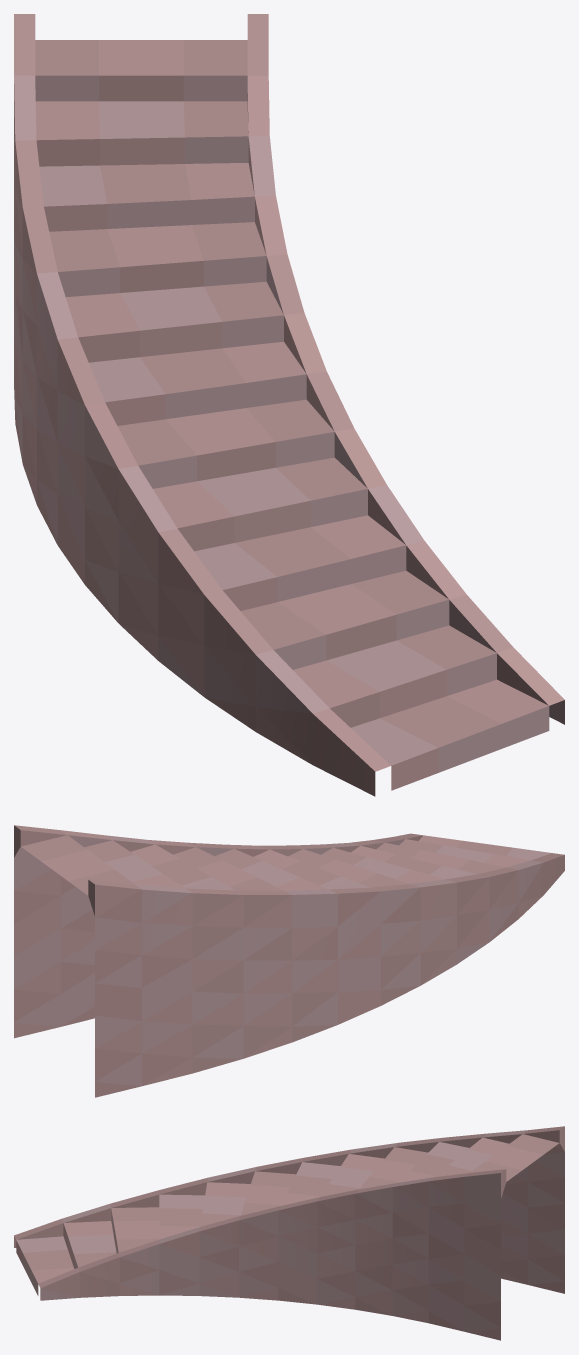
The model's file is Map_CentralStairs01.fbx.
3 renders of one model, top to bottom at view 1: azimuth 30°, elevation 25°; view 2: azimuth 150°, elevation 25°; view 3: azimuth 270°, elevation 25°, orthographic. The views are drawn at different scales.
Visible parts, largest first — view 1: MSH_Path_Narrow_Medium335; view 2: MSH_Path_Narrow_Medium335; view 3: MSH_Path_Narrow_Medium335.
Part boxes in pixels (bbox=[...]): MSH_Path_Narrow_Medium335: bbox=[14, 14, 564, 796]; MSH_Path_Narrow_Medium335: bbox=[14, 825, 564, 1097]; MSH_Path_Narrow_Medium335: bbox=[14, 1126, 564, 1340].
Bounding box in the file's own units: 551 × 435 × 1294.
